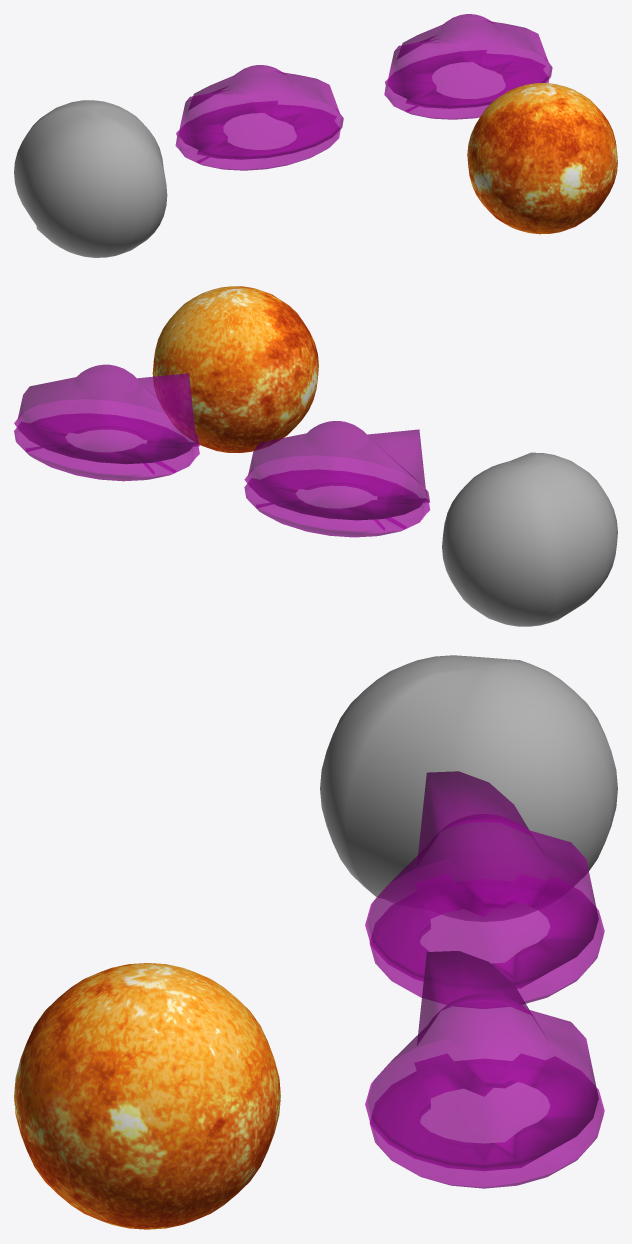
The model's file is System 1.fbx.
The picture shows the model from 3 angles, top to bottom: view 1: azimuth 30°, elevation 25°; view 2: azimuth 150°, elevation 25°; view 3: azimuth 270°, elevation 25°; orthographic projection. The views are drawn at different scales.
Parts seen in each view (by area): view 1: pSphere2, pSphere4, pSphere1, pSphere3; view 2: pSphere2, pSphere4, pSphere3, pSphere1; view 3: pSphere2, pSphere4, pSphere3, pSphere1.
Boxes of the visible parts, <box> form: pSphere2: <box>14,100,167,257</box>; pSphere4: <box>467,83,617,234</box>; pSphere1: <box>175,65,343,170</box>; pSphere3: <box>384,14,552,119</box>; pSphere2: <box>442,452,617,626</box>; pSphere4: <box>152,286,318,452</box>; pSphere3: <box>14,364,199,481</box>; pSphere1: <box>244,421,430,537</box>; pSphere2: <box>320,655,617,921</box>; pSphere4: <box>14,963,280,1229</box>; pSphere3: <box>365,951,604,1188</box>; pSphere1: <box>365,771,604,1008</box>.
Bounding box in the file's own units: 15.92 × 4 × 9.05.
3 materials, 1 textured.
